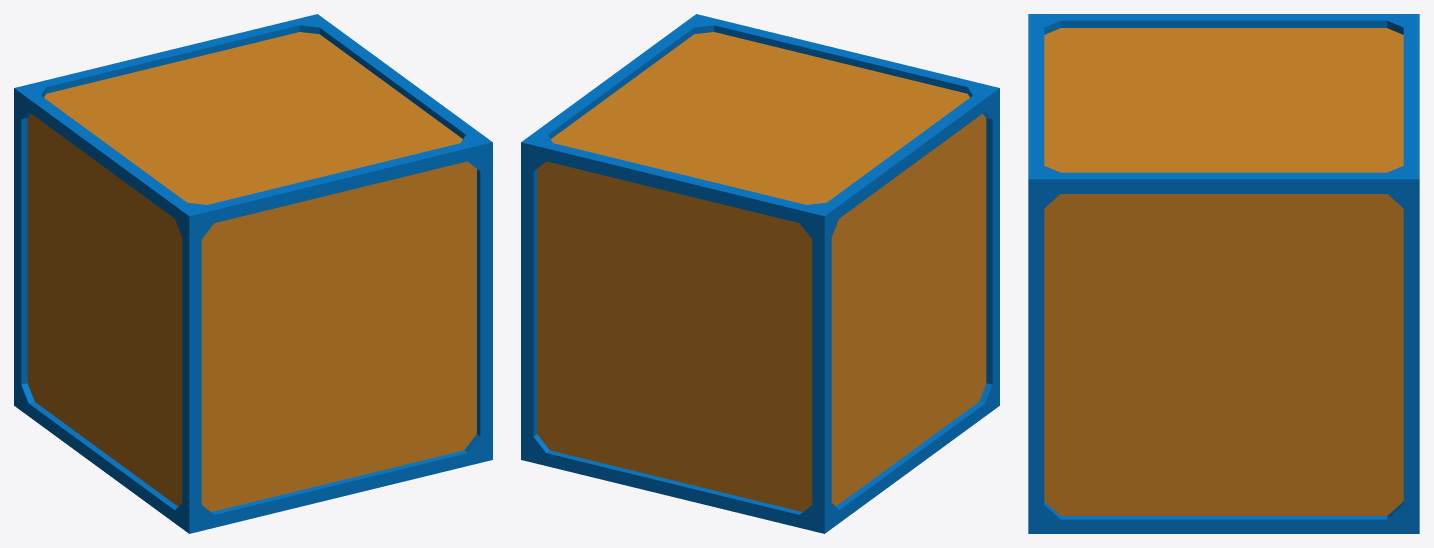
Rendered from Cube_Dynamique_V3.FBX.
3 views of the same model, side by side, from view 1: azimuth 30°, elevation 25°; view 2: azimuth 150°, elevation 25°; view 3: azimuth 270°, elevation 25° (orthographic). The views are drawn at different scales.
Visible parts, largest first — view 1: Box007; view 2: Box007; view 3: Box007.
Part boxes in pixels (left/top/right/bottom): Box007: left=14, top=14, right=492, bottom=533; Box007: left=521, top=14, right=999, bottom=533; Box007: left=1028, top=14, right=1419, bottom=533.
Size of the model in its own units: 48 by 48 by 48.
